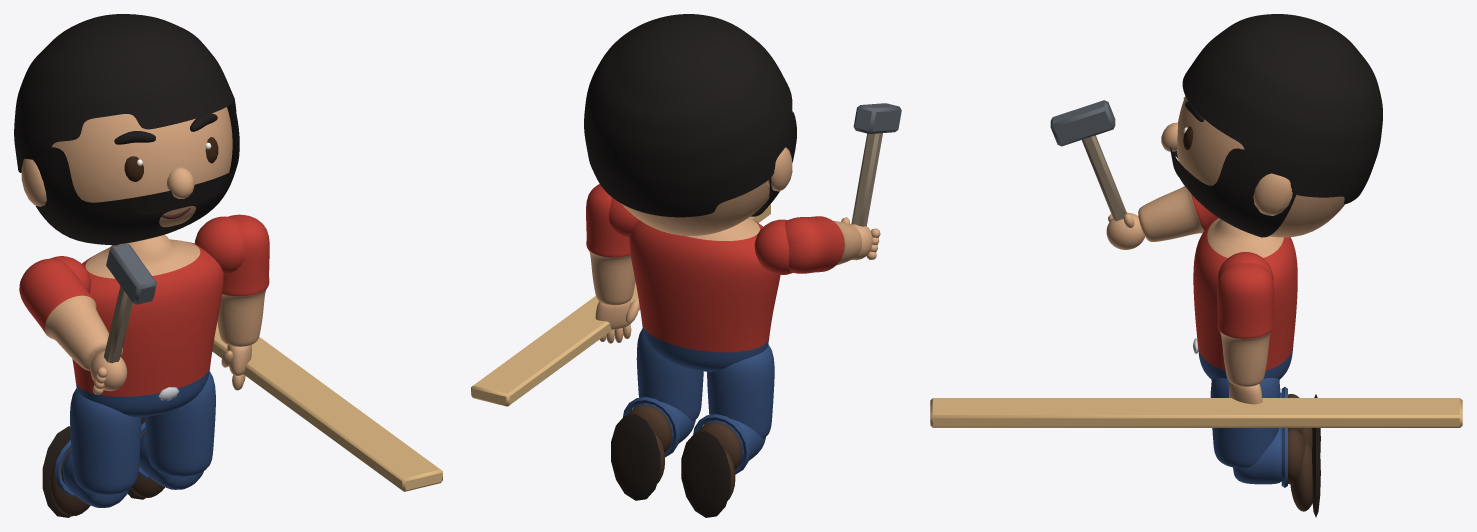
The model's file is eduard.glb.
The picture shows the model from 3 angles, left to right: view 1: azimuth 30°, elevation 25°; view 2: azimuth 150°, elevation 25°; view 3: azimuth 270°, elevation 25°; orthographic projection. The views are drawn at different scales.
Visible parts, largest first — view 1: Eduard_Head, Eduard_Torso, Eduard_Board, Eduard_Beard, Eduard_ArmR, Eduard_LegR, Eduard_ArmL, Eduard_LegL, Eduard_ShinR, Eduard_Hammer, Eduard_ShinL, Eduard_Mustache; view 2: Eduard_Head, Eduard_Torso, Eduard_Board, Eduard_ShinR, Eduard_ShinL, Eduard_ArmL, Eduard_ArmR, Eduard_LegR, Eduard_LegL, Eduard_Hammer, Eduard_Beard; view 3: Eduard_Head, Eduard_Board, Eduard_Torso, Eduard_ArmL, Eduard_Beard, Eduard_ShinL, Eduard_ArmR, Eduard_Hammer, Eduard_LegL.
Boxes of the visible parts, bbox=[...] form: Eduard_Head: bbox=[14, 14, 236, 227]; Eduard_Torso: bbox=[50, 216, 245, 417]; Eduard_Board: bbox=[212, 322, 442, 491]; Eduard_Beard: bbox=[22, 103, 239, 245]; Eduard_ArmR: bbox=[19, 258, 127, 394]; Eduard_LegR: bbox=[70, 388, 141, 494]; Eduard_ArmL: bbox=[217, 214, 269, 390]; Eduard_LegL: bbox=[145, 371, 215, 476]; Eduard_ShinR: bbox=[42, 426, 129, 517]; Eduard_Hammer: bbox=[104, 243, 156, 363]; Eduard_ShinL: bbox=[127, 417, 203, 499]; Eduard_Mustache: bbox=[133, 179, 220, 215]; Eduard_Head: bbox=[584, 14, 793, 235]; Eduard_Torso: bbox=[609, 197, 792, 371]; Eduard_Board: bbox=[471, 204, 770, 406]; Eduard_ShinR: bbox=[681, 414, 765, 517]; Eduard_ShinL: bbox=[611, 397, 695, 500]; Eduard_ArmL: bbox=[586, 184, 639, 343]; Eduard_ArmR: bbox=[785, 216, 880, 273]; Eduard_LegR: bbox=[707, 344, 774, 438]; Eduard_LegL: bbox=[636, 328, 703, 420]; Eduard_Hammer: bbox=[851, 103, 901, 226]; Eduard_Beard: bbox=[750, 112, 796, 216]; Eduard_Head: bbox=[1161, 14, 1382, 237]; Eduard_Board: bbox=[930, 398, 1462, 427]; Eduard_Torso: bbox=[1193, 217, 1297, 379]; Eduard_ArmL: bbox=[1217, 263, 1274, 404]; Eduard_Beard: bbox=[1170, 147, 1296, 237]; Eduard_ShinL: bbox=[1233, 428, 1320, 517]; Eduard_ArmR: bbox=[1106, 186, 1218, 249]; Eduard_Hammer: bbox=[1050, 100, 1126, 220]; Eduard_LegL: bbox=[1210, 378, 1280, 468].
Size of the model in its own units: 0.695 by 1.28 by 1.3.
